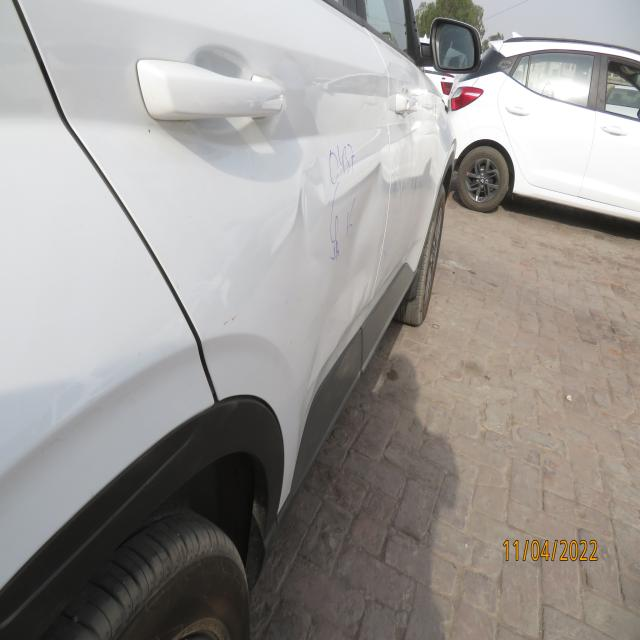damage: (304, 264, 370, 382), (280, 148, 335, 254), (343, 175, 377, 263)
